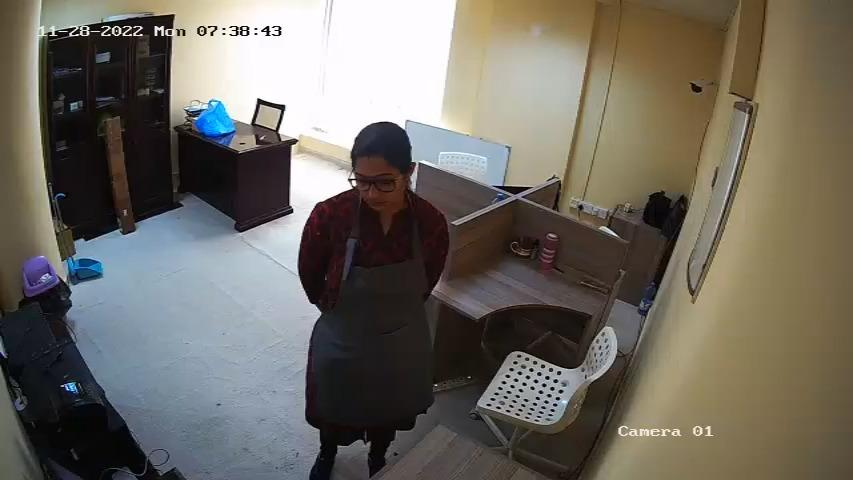apron: (309, 216, 447, 429)
